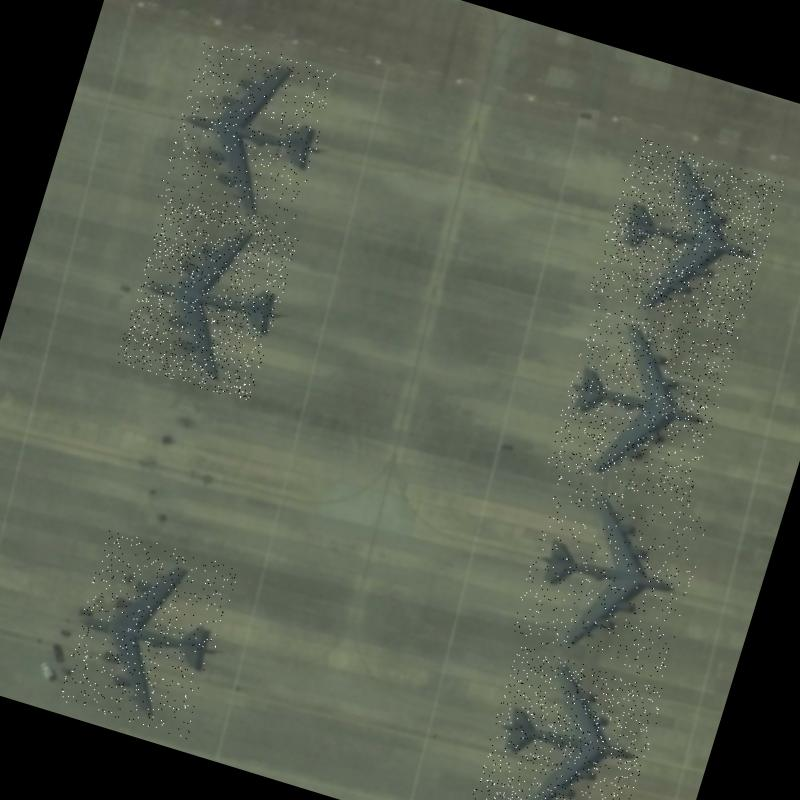A8: (510, 473, 710, 680), (588, 136, 786, 339), (546, 302, 738, 508), (56, 528, 240, 740), (116, 195, 300, 404), (156, 31, 340, 238), (470, 644, 667, 800)
